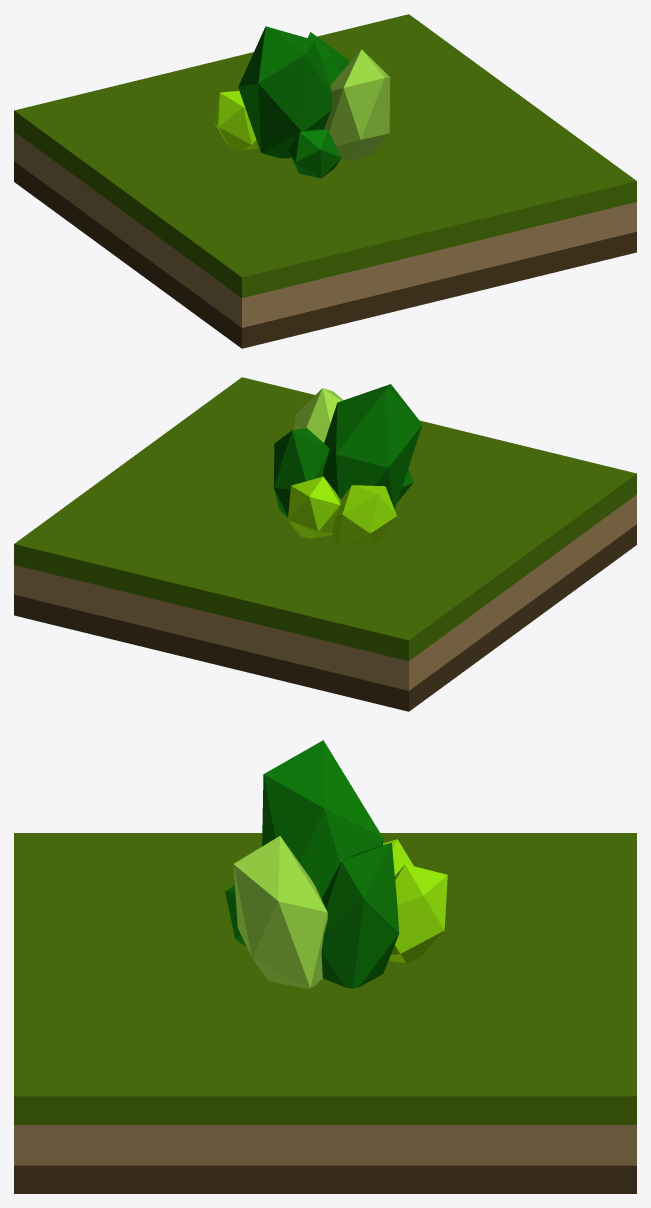
Rendered from bush_ver02.fbx.
3 renders of one model, top to bottom at view 1: azimuth 30°, elevation 25°; view 2: azimuth 150°, elevation 25°; view 3: azimuth 270°, elevation 25°, orthographic. The views are drawn at different scales.
Parts seen in each view (by area): view 1: tree ground.002, Icosphere.029, Icosphere.027, Icosphere.032, Icosphere.030, Icosphere.028; view 2: tree ground.002, Icosphere.029, Icosphere.030, Icosphere.028, Icosphere.031, Icosphere.027; view 3: tree ground.002, Icosphere.029, Icosphere.027, Icosphere.028, Icosphere.031.
Boxes of the visible parts, left/top/right/bottom form: tree ground.002: left=14, top=14, right=636, bottom=348; Icosphere.029: left=238, top=26, right=332, bottom=158; Icosphere.027: left=324, top=49, right=390, bottom=160; Icosphere.032: left=288, top=129, right=341, bottom=178; Icosphere.030: left=214, top=90, right=258, bottom=149; Icosphere.028: left=308, top=32, right=348, bottom=85; tree ground.002: left=14, top=377, right=636, bottom=711; Icosphere.029: left=323, top=384, right=422, bottom=509; Icosphere.030: left=332, top=485, right=396, bottom=546; Icosphere.028: left=273, top=428, right=329, bottom=517; Icosphere.031: left=287, top=476, right=340, bottom=538; Icosphere.027: left=295, top=388, right=343, bottom=442; tree ground.002: left=14, top=833, right=636, bottom=1193; Icosphere.029: left=262, top=740, right=383, bottom=898; Icosphere.027: left=233, top=836, right=327, bottom=989; Icosphere.028: left=321, top=842, right=399, bottom=988; Icosphere.031: left=388, top=864, right=447, bottom=962.
Size of the model in its own units: 194 by 97.03 by 194.
